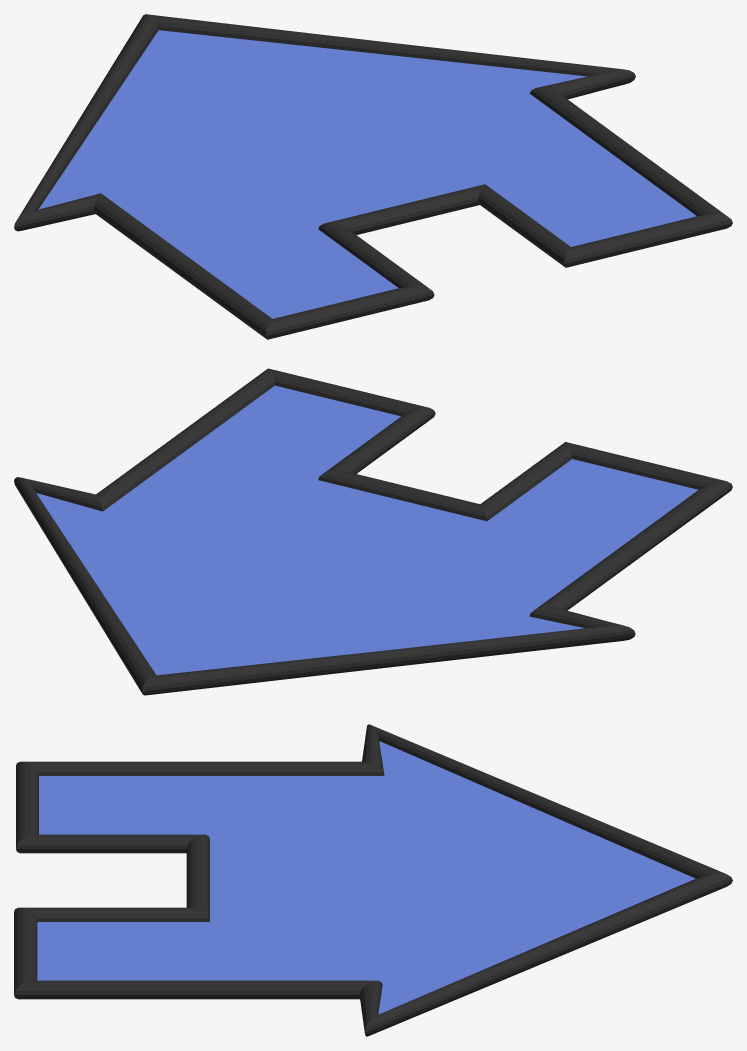
The model's file is House Lane.fbx.
3 renders of one model, top to bottom at view 1: azimuth 30°, elevation 25°; view 2: azimuth 150°, elevation 25°; view 3: azimuth 270°, elevation 25°, orthographic.
Visible parts, largest first — view 1: House Lane; view 2: House Lane; view 3: House Lane.
Part boxes in pixels (box(x1,y1,x2,y2)): House Lane: box(14, 14, 732, 339); House Lane: box(14, 368, 732, 695); House Lane: box(14, 724, 732, 1036).
Size of the model in its own units: 8.35 by 0.2006 by 8.32.
